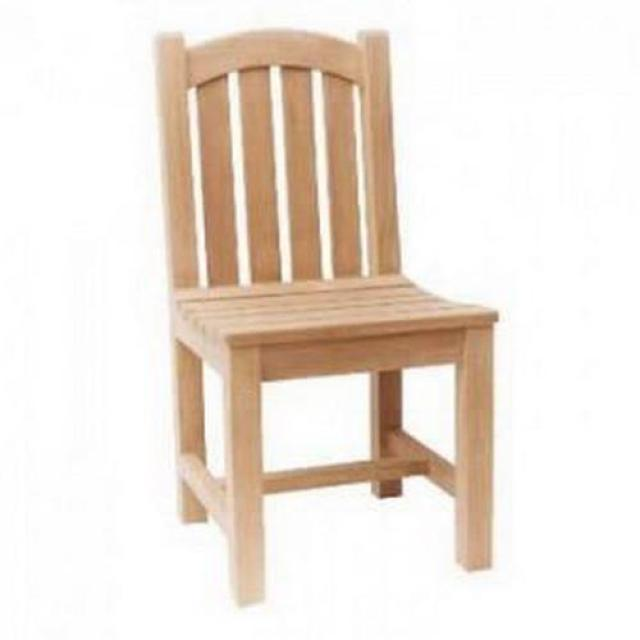chair: (156, 29, 499, 611)
